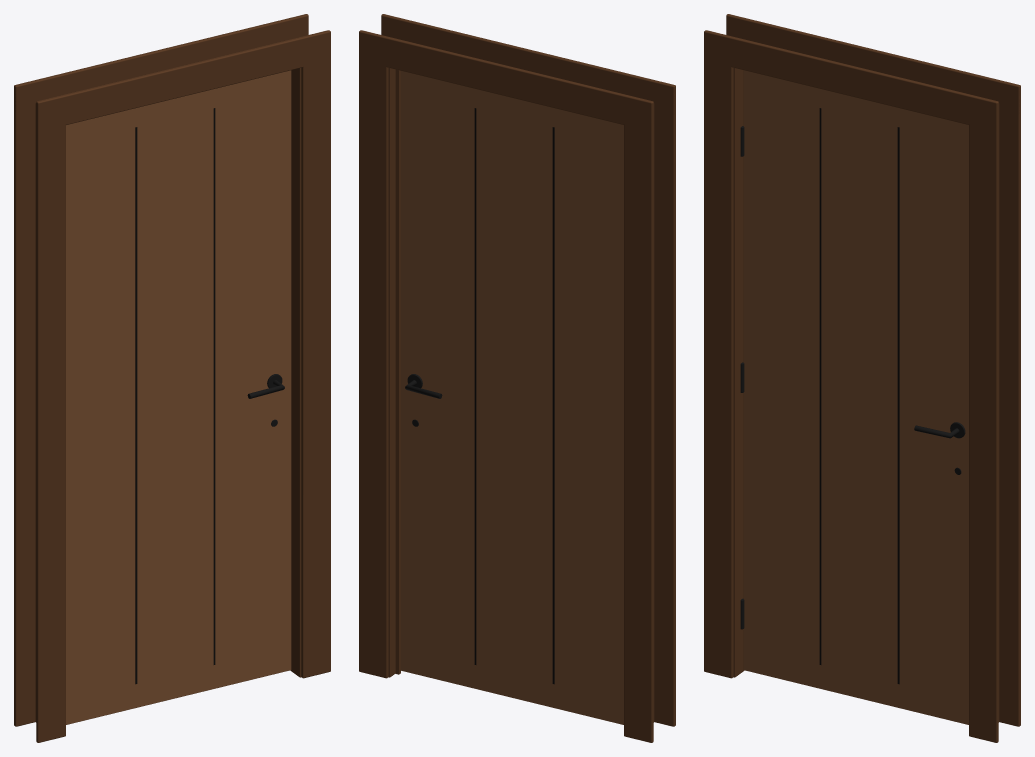
Rendered from porta_90.glb.
3 views of the same model, side by side, from view 1: azimuth 30°, elevation 25°; view 2: azimuth 150°, elevation 25°; view 3: azimuth 330°, elevation 25° (orthographic).
Parts seen in each view (by area): view 1: folha, guarnicao_e, guarnicao_d, guarnicao_e.001, guarnicao_t, batente_d, guarnicao_t.001, friso, friso.001, batente_e, guarnicao_d.001; view 2: folha, guarnicao_e.001, guarnicao_d.001, guarnicao_e, guarnicao_t.001, guarnicao_t, batente_d, batedor_d, friso.002, friso.003, batente_e, guarnicao_d; view 3: folha, guarnicao_d, guarnicao_e, guarnicao_d.001, guarnicao_t, batente_e, guarnicao_t.001, friso.001, friso, batente_d, guarnicao_e.001.
Boxes of the visible parts, x1,y1,x2,y2 form: folha: [66, 70, 291, 724]; guarnicao_e: [36, 95, 65, 742]; guarnicao_d: [301, 30, 330, 678]; guarnicao_e.001: [14, 78, 42, 726]; guarnicao_t: [36, 36, 329, 130]; batente_d: [290, 68, 301, 677]; guarnicao_t.001: [14, 16, 308, 114]; friso: [135, 127, 137, 684]; friso.001: [213, 108, 215, 664]; batente_e: [35, 103, 36, 722]; guarnicao_d.001: [280, 14, 308, 40]; folha: [401, 71, 623, 724]; guarnicao_e.001: [624, 95, 653, 742]; guarnicao_d.001: [359, 30, 388, 678]; guarnicao_e: [647, 78, 675, 726]; guarnicao_t.001: [359, 33, 653, 129]; guarnicao_t: [381, 16, 675, 114]; batente_d: [388, 68, 395, 677]; batedor_d: [395, 69, 400, 674]; friso.002: [552, 127, 554, 684]; friso.003: [474, 108, 476, 664]; batente_e: [653, 103, 654, 722]; guarnicao_d: [381, 14, 409, 40]; folha: [743, 70, 968, 724]; guarnicao_d: [969, 95, 998, 742]; guarnicao_e: [704, 30, 733, 678]; guarnicao_d.001: [992, 78, 1020, 726]; guarnicao_t: [704, 35, 998, 130]; batente_e: [733, 68, 744, 677]; guarnicao_t.001: [726, 16, 1020, 114]; friso.001: [897, 127, 899, 684]; friso: [819, 108, 821, 664]; batente_d: [998, 103, 999, 722]; guarnicao_e.001: [726, 14, 754, 41].
Bounding box in the file's own units: 1.04 × 2.17 × 0.162.
